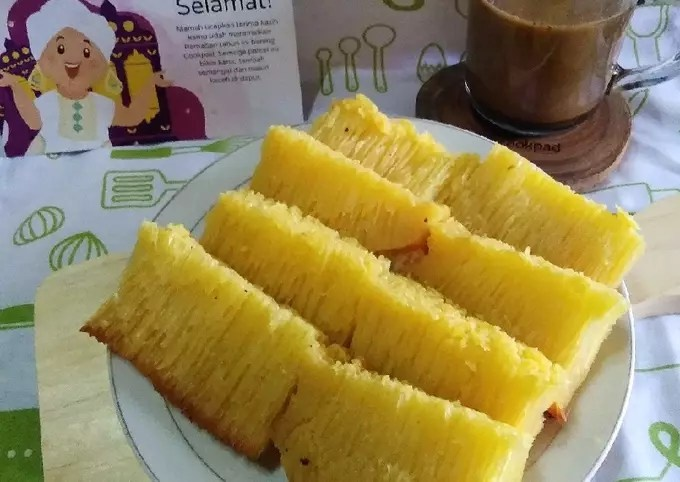bika_ambon: (81, 147, 639, 469), (75, 227, 315, 443)
